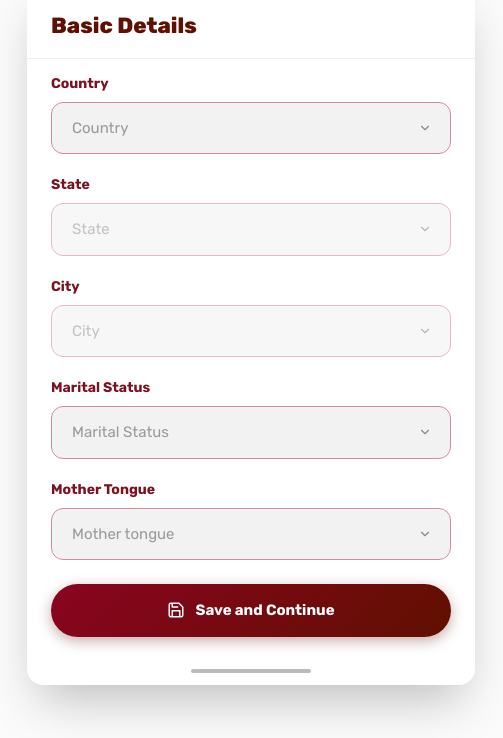
BasicDetails – Step 2 form › shows validation errors when submitting empty required fields
The width and height of the screenshot is (503, 738).
(page scrolled)
Step 1. Click the button "Save and Continue" → click(251, 610), box [51, 584, 451, 636]
(page scrolled)
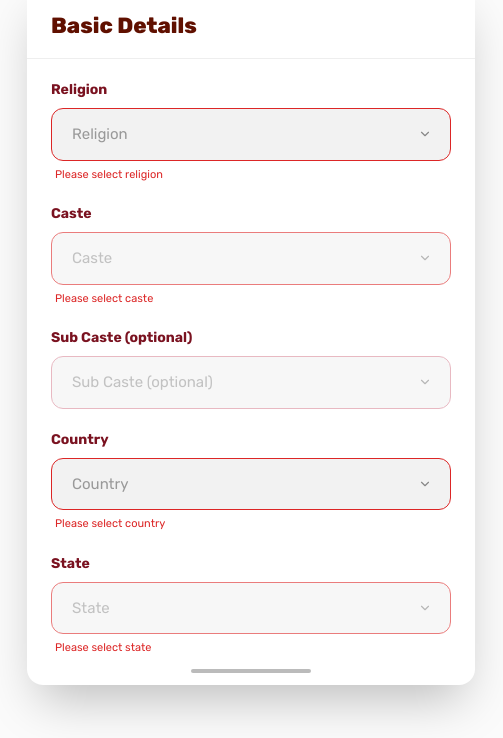
Check: the text "Please select religion" is shown, box [55, 168, 163, 180]
